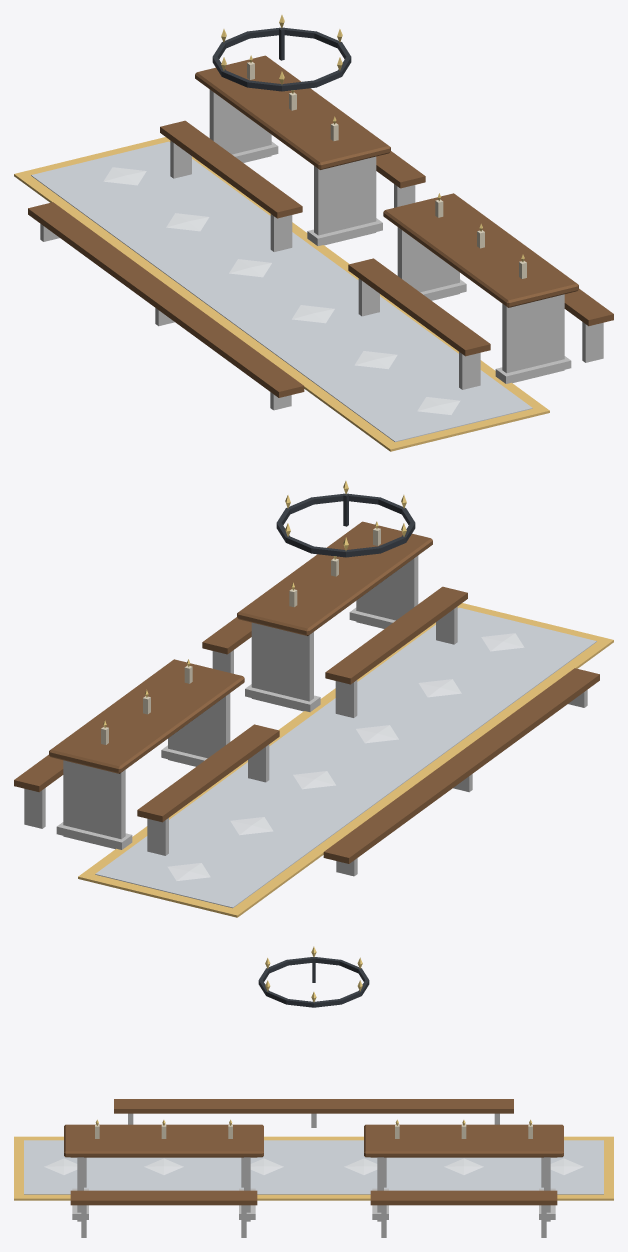
The model's file is HallFurnishings.obj.
3 renders of one model, top to bottom at view 1: azimuth 30°, elevation 25°; view 2: azimuth 150°, elevation 25°; view 3: azimuth 270°, elevation 25°, orthographic. The views are drawn at different scales.
Bounding box in the file's own units: 8.5 × 7 × 18.
